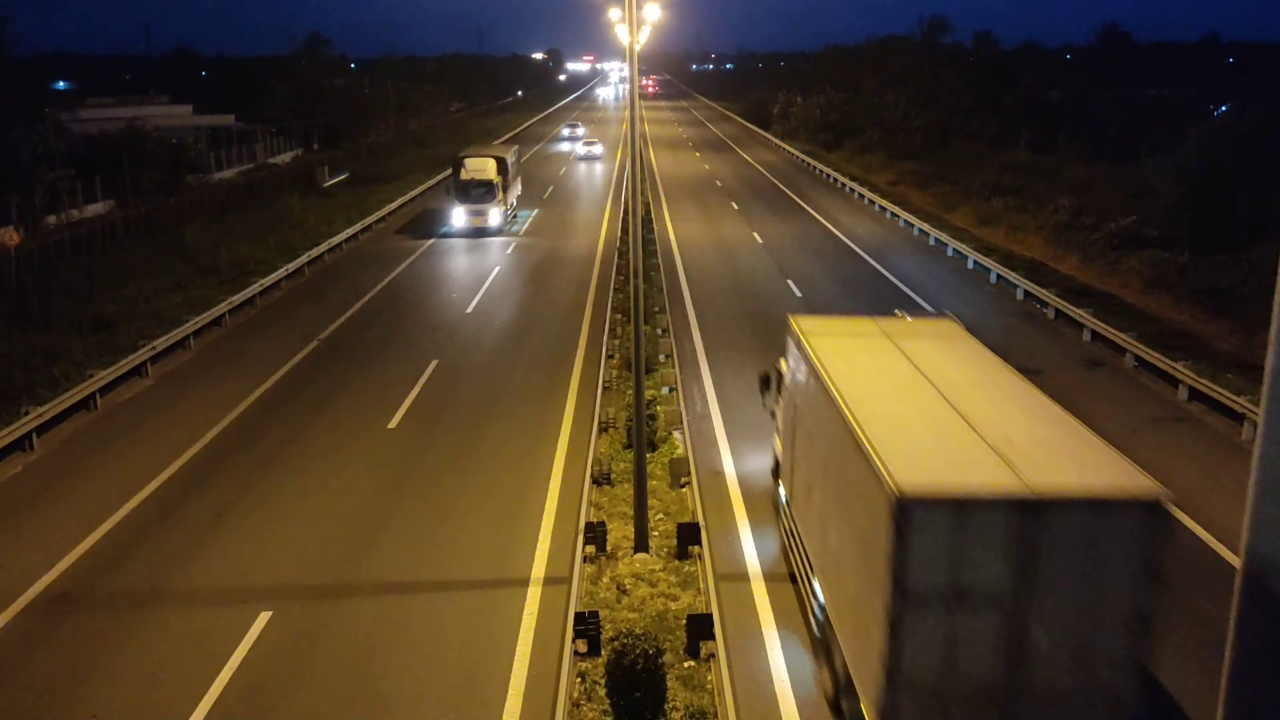car: (573, 138, 605, 161)
truck: (753, 286, 1167, 713), (446, 139, 523, 237)
